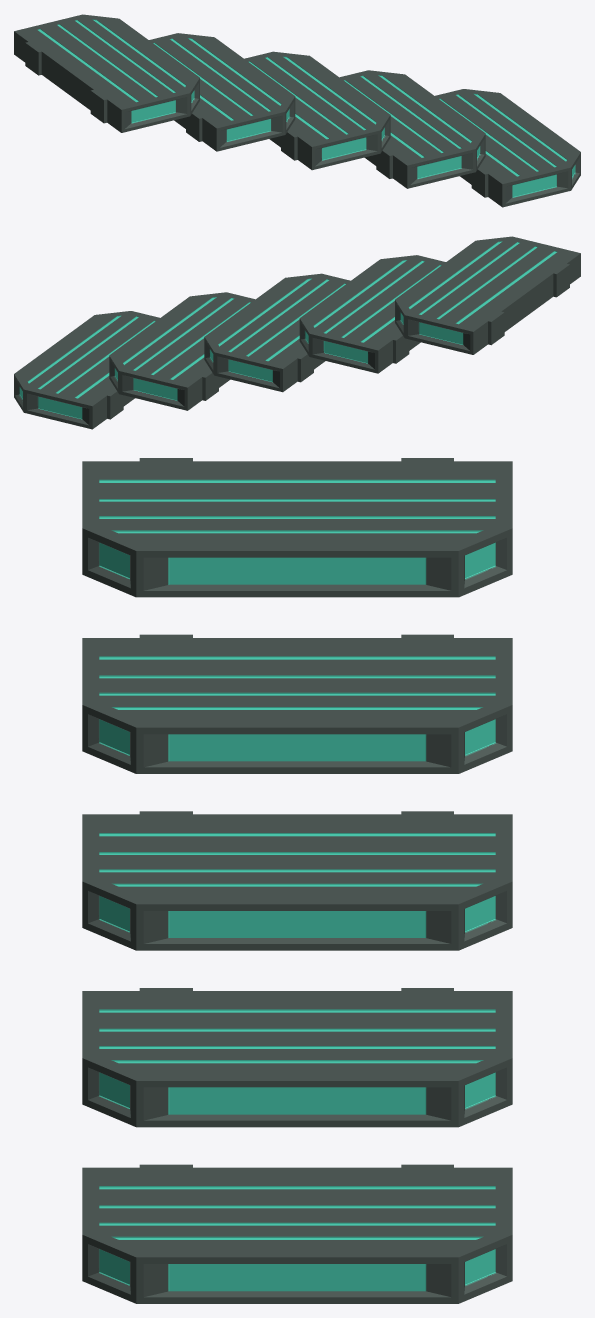
File: Stair.fbx
3 views of the same model, one above another, from view 1: azimuth 30°, elevation 25°; view 2: azimuth 150°, elevation 25°; view 3: azimuth 270°, elevation 25° (orthographic). The views are drawn at different scales.
Parts seen in each view (by area): view 1: Stair; view 2: Stair; view 3: Stair.
Part boxes in pixels (left/top/right/bottom): Stair: left=14, top=14, right=580, bottom=207; Stair: left=14, top=236, right=580, bottom=429; Stair: left=82, top=458, right=512, bottom=1303.
Bounding box in the file's own units: 420 × 161 × 164.
